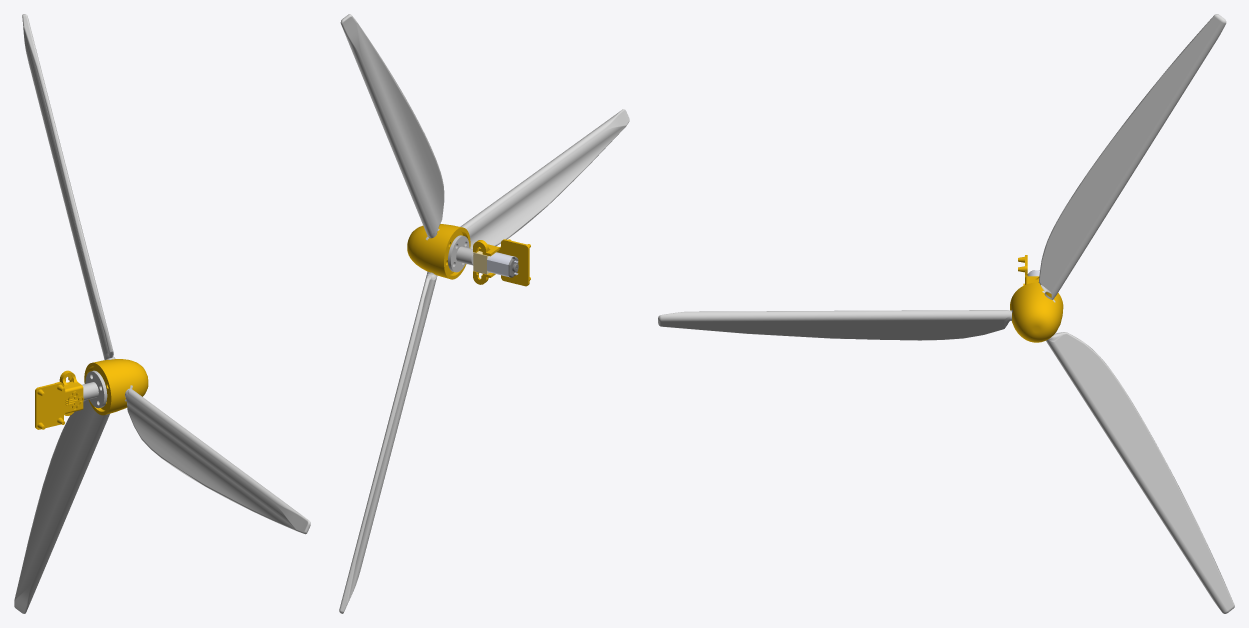
File: turbineTopViewExploded.glb
3 views of the same model, side by side, from view 1: azimuth 30°, elevation 25°; view 2: azimuth 150°, elevation 25°; view 3: azimuth 270°, elevation 25° (orthographic).
Visible parts, largest first — view 1: Turbine-Blade-Assembly, 5:1 Micro Metal Gearmotor LP 6V5:1 Micro Metal Gearmotor LP, FlangeConnector3mmDShaft; view 2: Turbine-Blade-Assembly, 5:1 Micro Metal Gearmotor LP 6V5:1 Micro Metal Gearmotor LP, FlangeConnector3mmDShaft; view 3: Turbine-Blade-Assembly.
Boxes of the visible parts, x1,y1,x2,y2 form: Turbine-Blade-Assembly: (14, 14, 310, 613); 5:1 Micro Metal Gearmotor LP 6V5:1 Micro Metal Gearmotor LP: (35, 370, 83, 429); FlangeConnector3mmDShaft: (82, 370, 107, 408); Turbine-Blade-Assembly: (339, 14, 629, 613); 5:1 Micro Metal Gearmotor LP 6V5:1 Micro Metal Gearmotor LP: (473, 239, 530, 286); FlangeConnector3mmDShaft: (448, 235, 473, 272); Turbine-Blade-Assembly: (658, 14, 1234, 613).
Bounding box in the file's own units: 0.0733 × 0.3705 × 0.3238.
